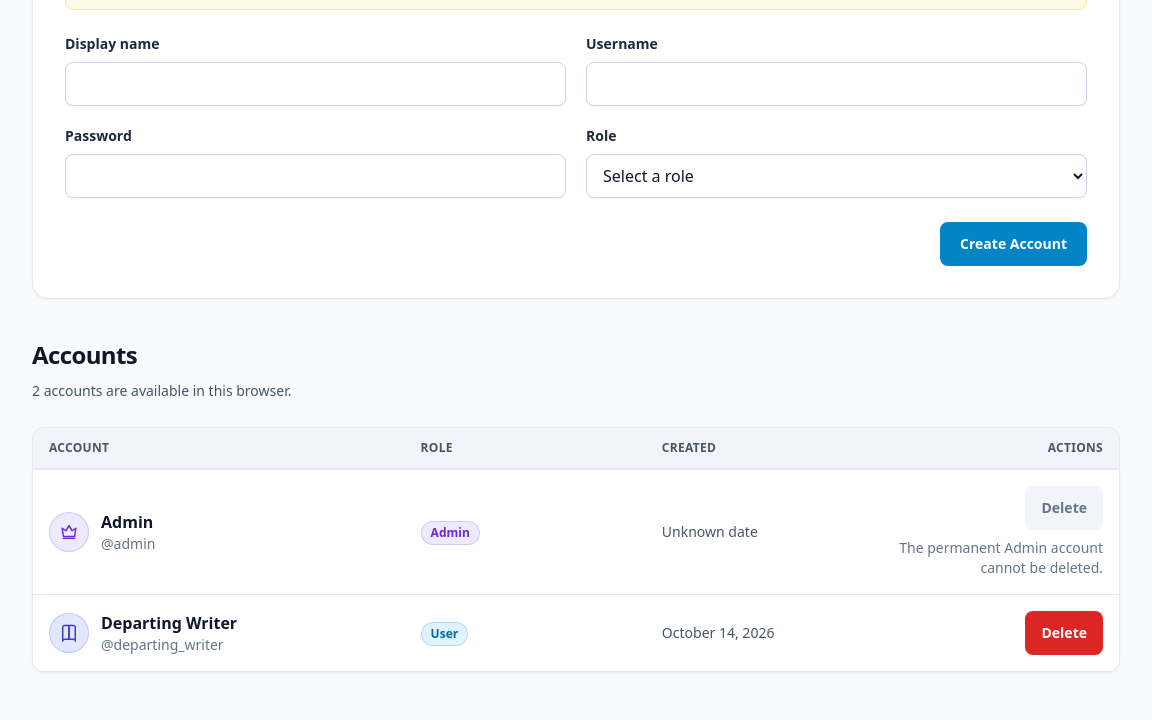
it: UserManagement › deletes a confirmed account while preserving posts authored by that account
(page scrolled)
Click the button with aria-label "Delete Departing Writer": click(1064, 633) [1026,611,1103,655]
(page scrolled)
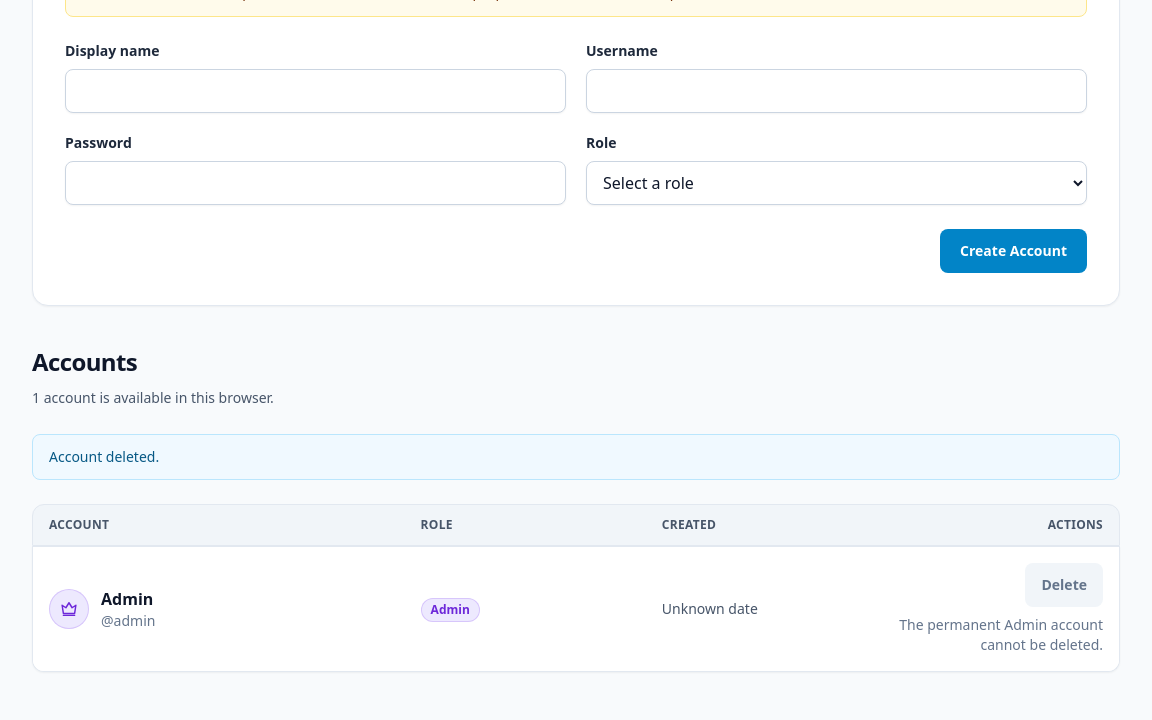
Expected: the message reads "Account deleted.", [49,447,159,466]
Expected: the text "Departing Writer" is gone
